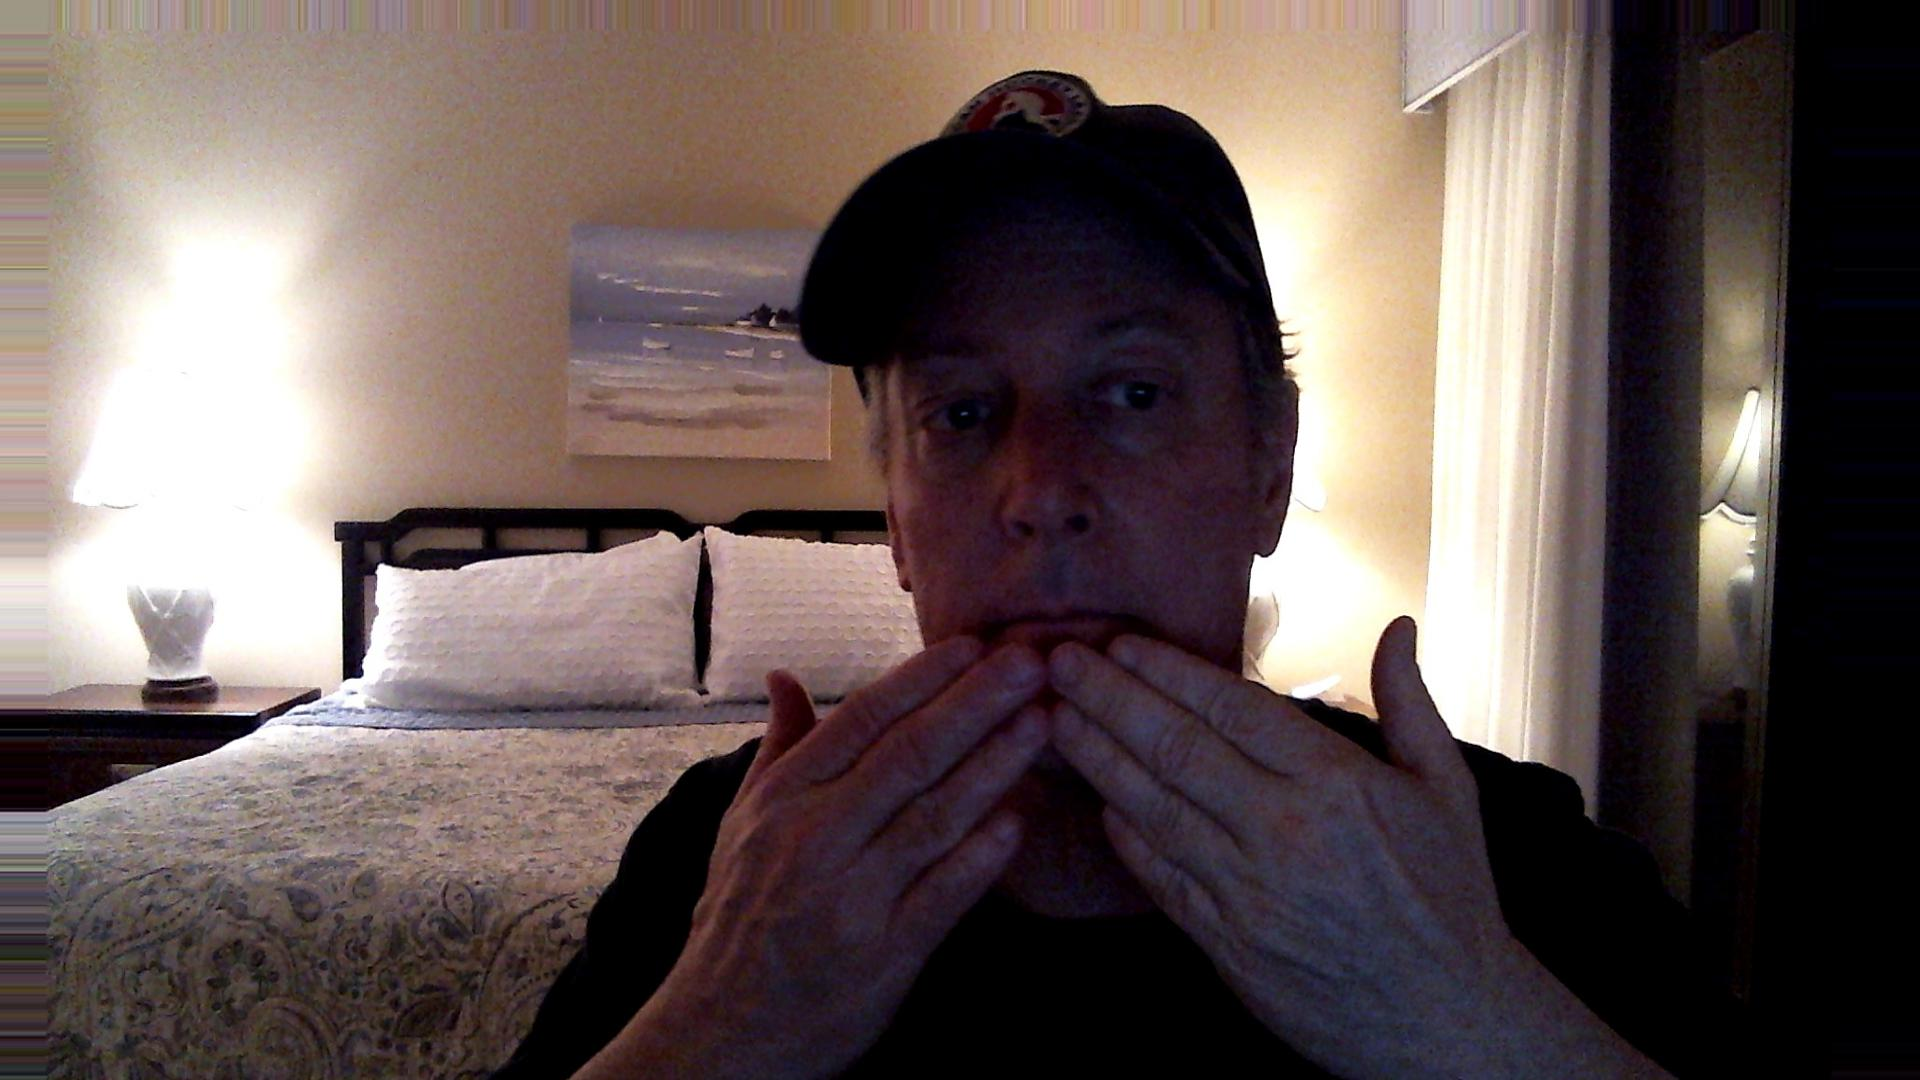Thank You: (688, 603, 1581, 971)
